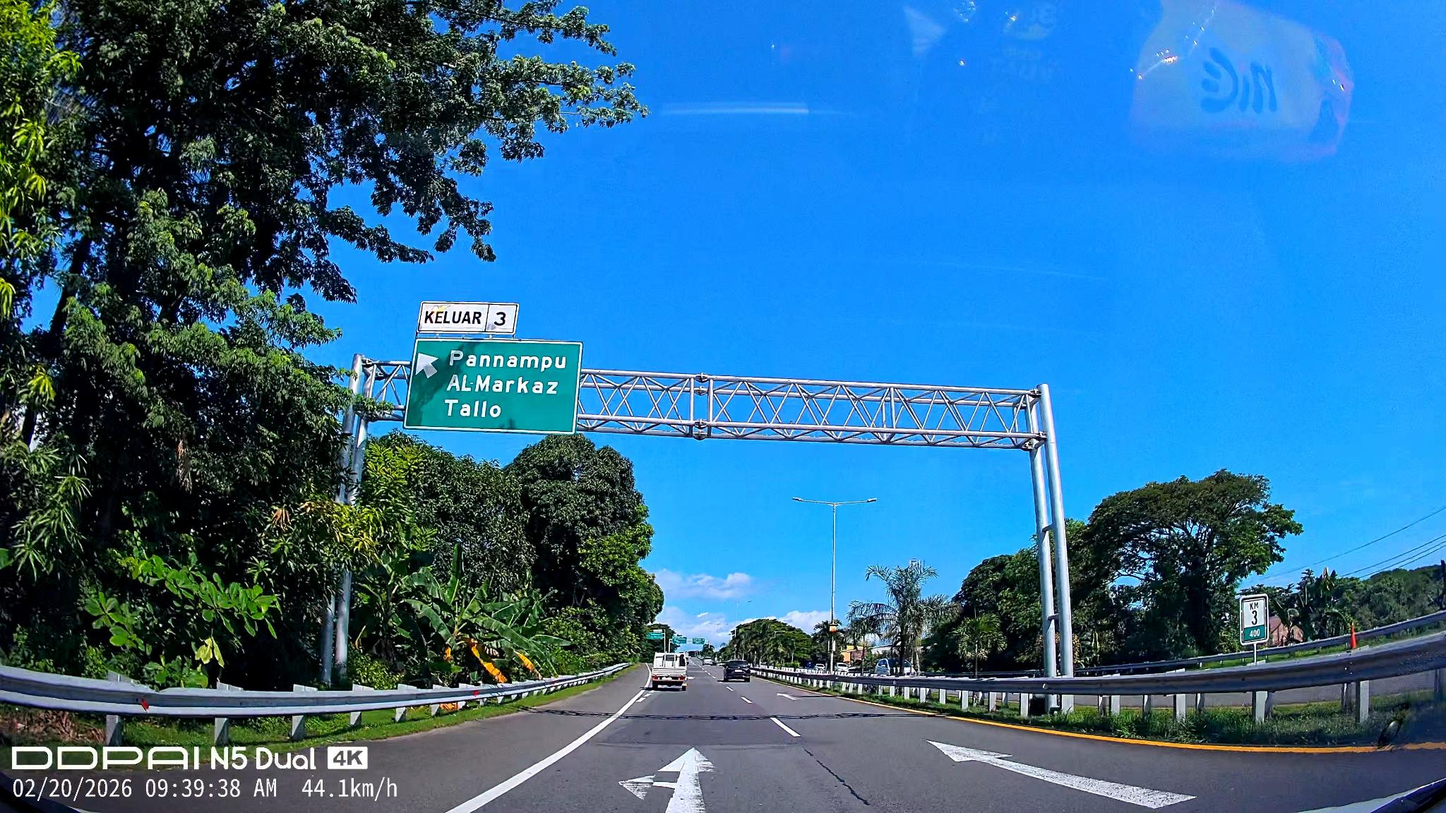rambu_teks: (403, 337, 584, 436)
